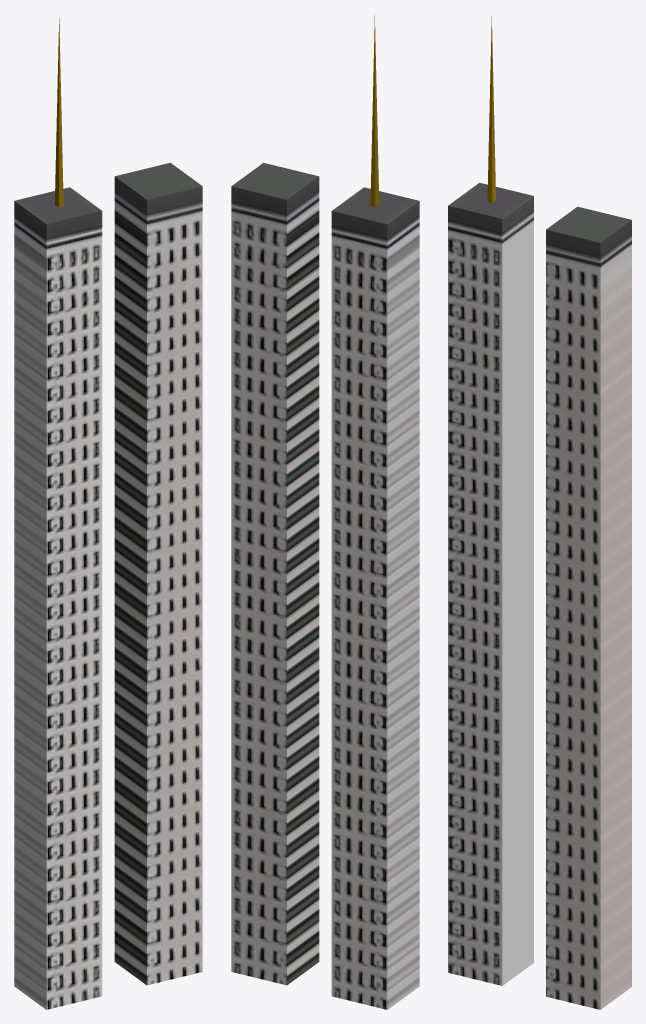
Rendered from Twins.glb.
The picture shows the model from 3 angles, left to right: view 1: azimuth 30°, elevation 25°; view 2: azimuth 150°, elevation 25°; view 3: azimuth 330°, elevation 25°; orthographic projection. The views are drawn at different scales.
Parts seen in each view (by area): view 1: Twins; view 2: Twins; view 3: Twins.
Part boxes in pixels (<box>): Twins: <box>14,18,202,1009</box>; Twins: <box>231,15,419,1009</box>; Twins: <box>448,16,631,1009</box>.
Size of the model in its own units: 314 by 1875 by 112.
1 material, 1 textured.
